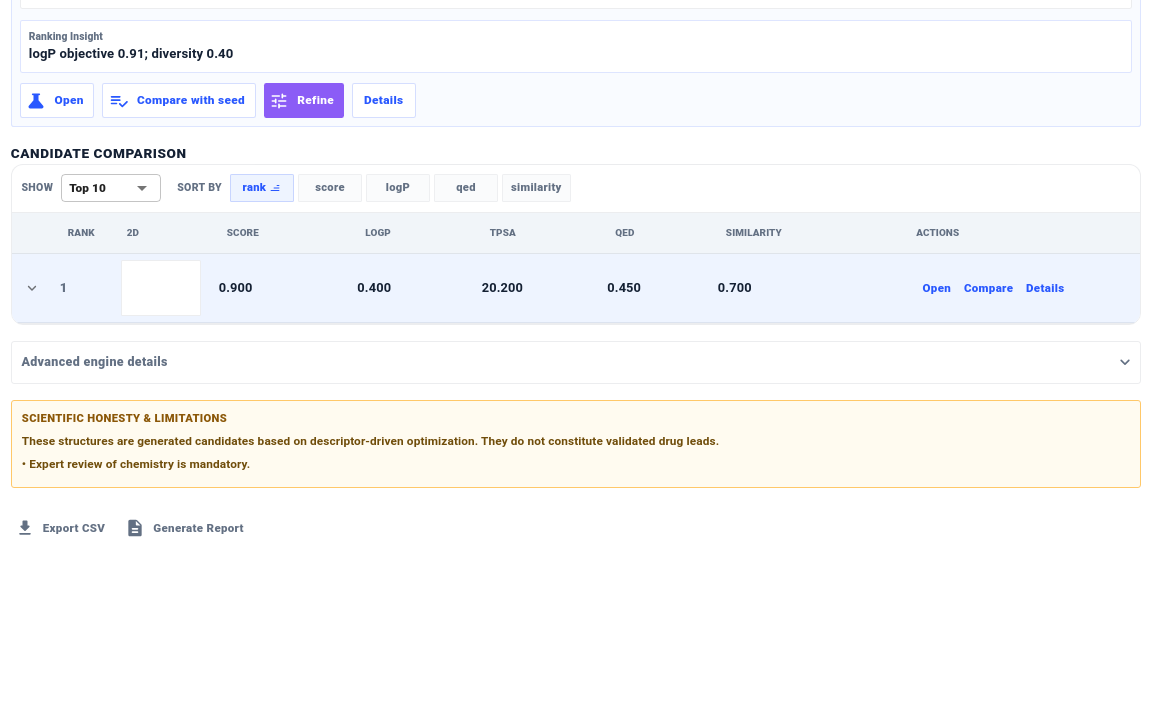
Test case: GenerationArtifact › toggles advanced engine details
(page scrolled)
Expected: the text "Generation progress" is not shown
Expected: the text "GB_GA-inspired graph mutation" is not shown
Click the button "Advanced engine details". click: (95,362)
box: x1=12 y1=342 x2=1140 y2=383
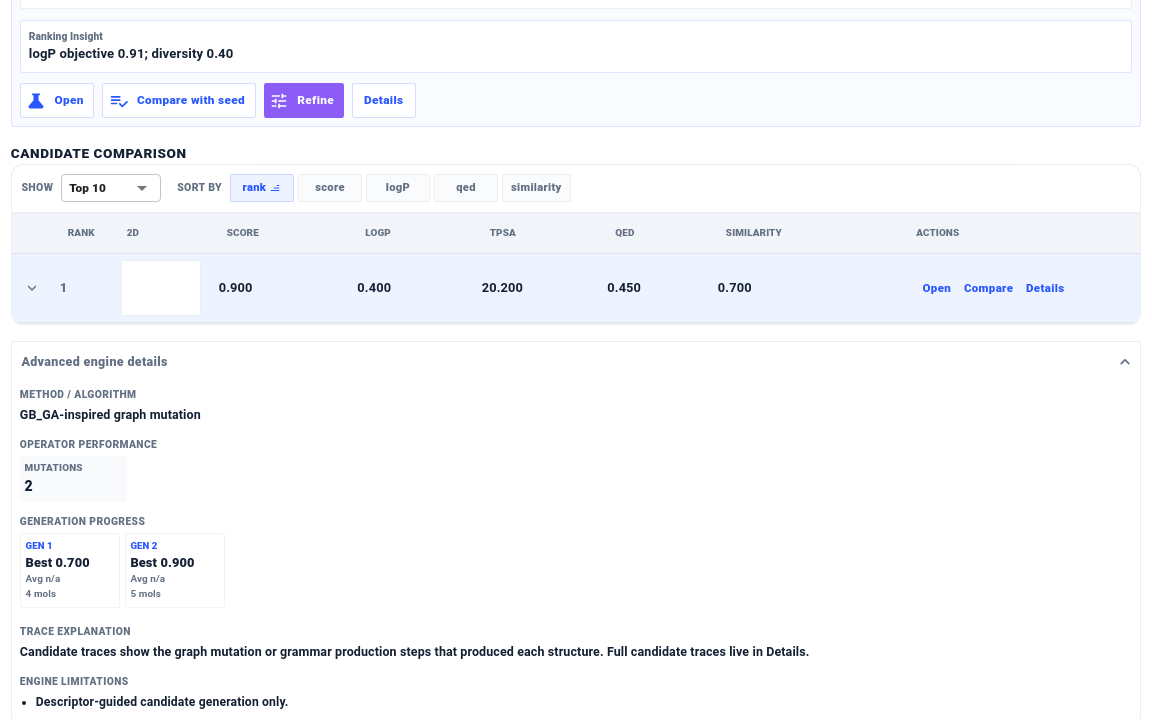
Now the text "Generation progress" is shown, box x1=20 y1=515 x2=145 y2=528
Now the text "Gen 2" is shown, box x1=130 y1=540 x2=158 y2=551
Now the text "GB_GA-inspired graph mutation" is shown, box x1=20 y1=407 x2=201 y2=422
